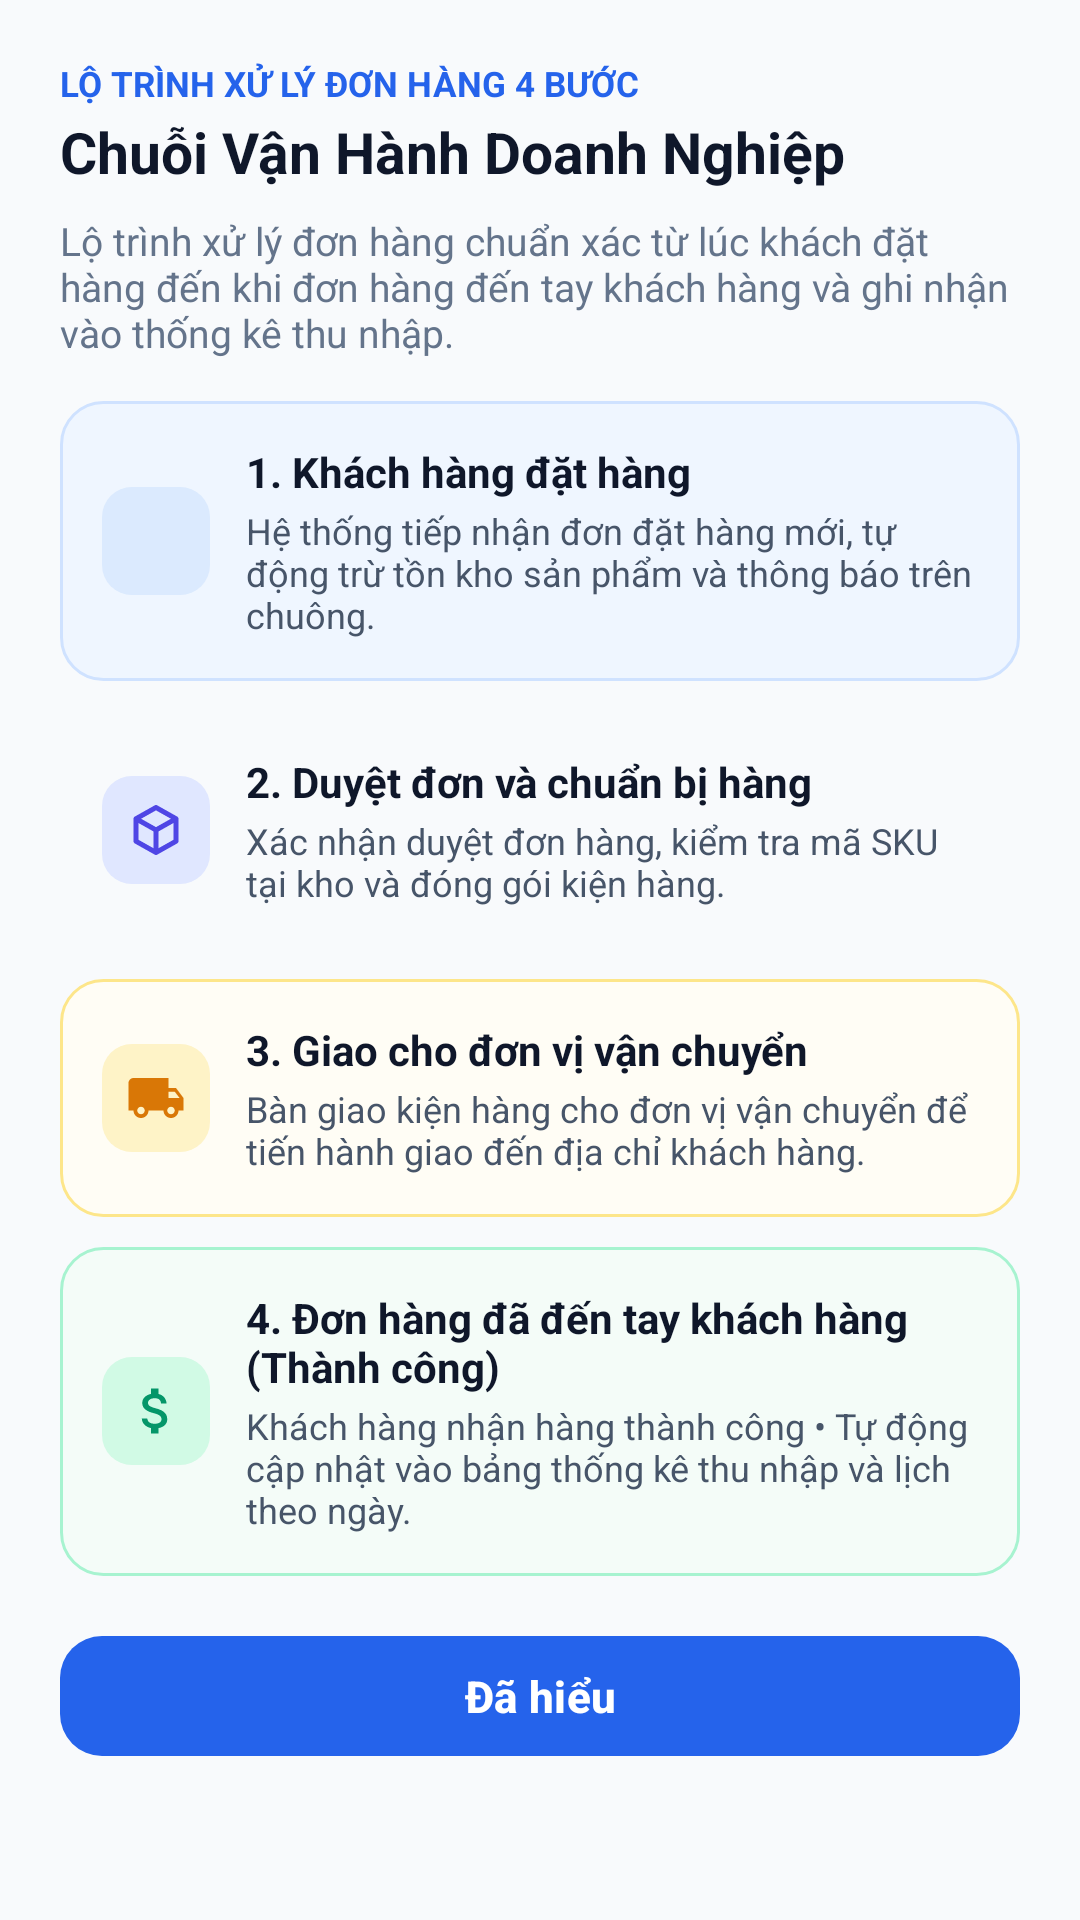

Screen size 1080 x 1920. Icon name, then its center in pixels as (x,y):
cash: (156,1411)
products: (156,830)
truck: (156,1098)
